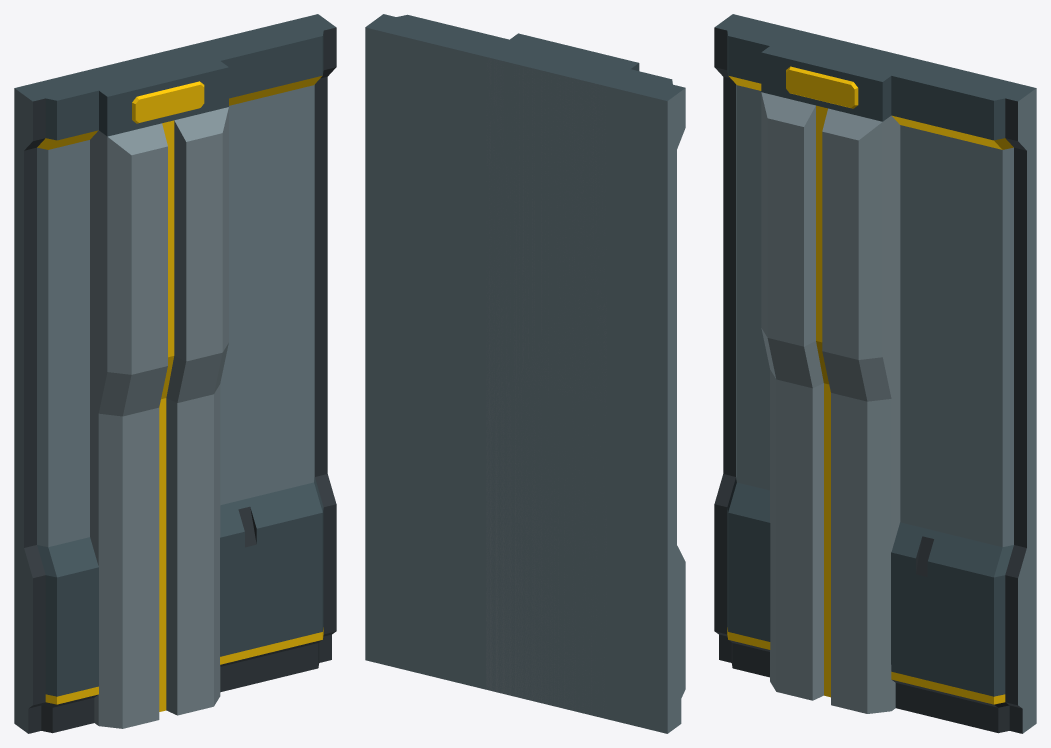
File: Wall_type_C_020.fbx
The picture shows the model from 3 angles, left to right: view 1: azimuth 30°, elevation 25°; view 2: azimuth 150°, elevation 25°; view 3: azimuth 330°, elevation 25°; orthographic projection.
Visible parts, largest first — view 1: Wall_type_C_020; view 2: Wall_type_C_020; view 3: Wall_type_C_020.
Boxes of the visible parts, x1,y1,x2,y2 form: Wall_type_C_020: [14, 14, 336, 733]; Wall_type_C_020: [365, 14, 685, 733]; Wall_type_C_020: [714, 14, 1036, 733].
Bounding box in the file's own units: 200 × 46.98 × 400.
